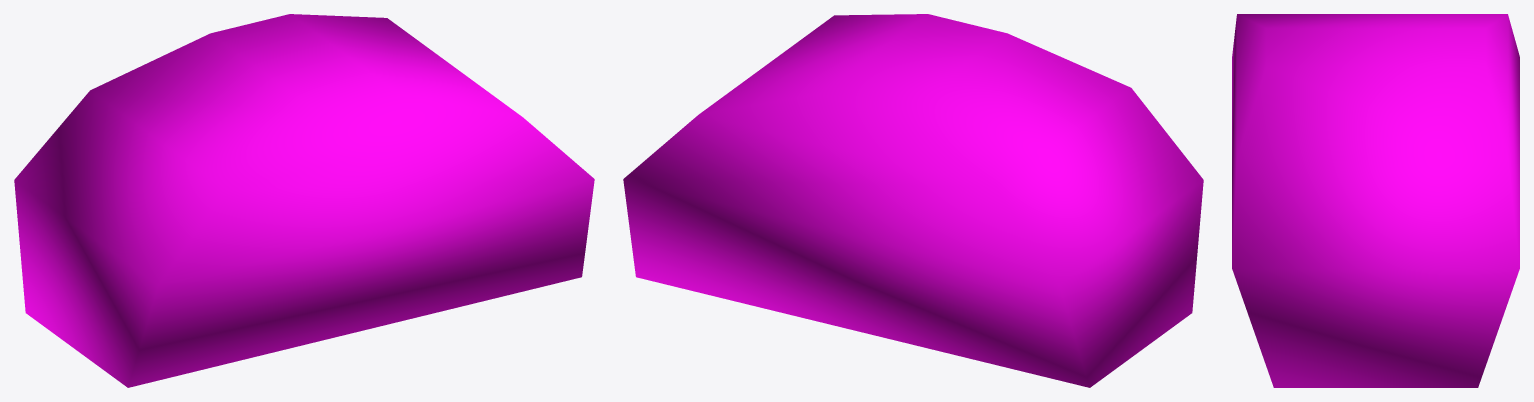
The model's file is fish_pave_meshCollider.fbx.
The picture shows the model from 3 angles, left to right: view 1: azimuth 30°, elevation 25°; view 2: azimuth 150°, elevation 25°; view 3: azimuth 270°, elevation 25°; orthographic projection.
Visible parts, largest first — view 1: foods_fish_pave_meshCollider; view 2: foods_fish_pave_meshCollider; view 3: foods_fish_pave_meshCollider.
Part boxes in pixels (x1,y1,x2,y2): foods_fish_pave_meshCollider: [14, 14, 594, 387]; foods_fish_pave_meshCollider: [623, 14, 1203, 387]; foods_fish_pave_meshCollider: [1232, 14, 1519, 387].
Bounding box in the file's own units: 17.22 × 8.37 × 9.48.
